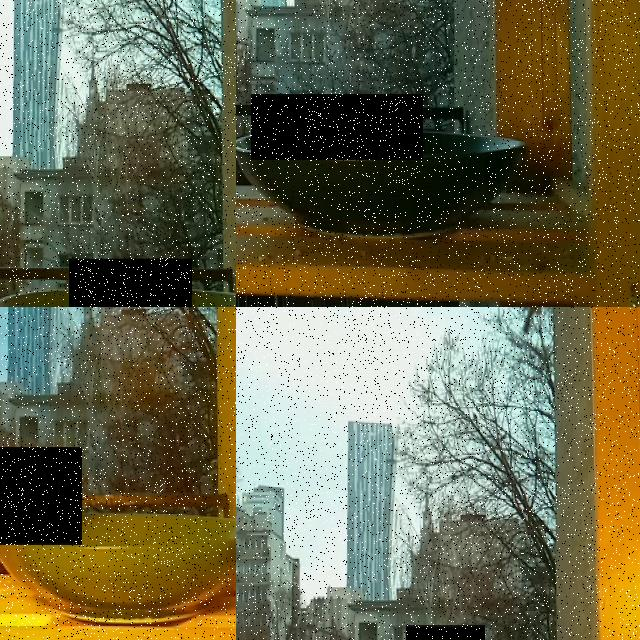Modraszka: (69, 258, 192, 307)
Wrobel: (251, 94, 423, 160), (0, 447, 82, 544)
